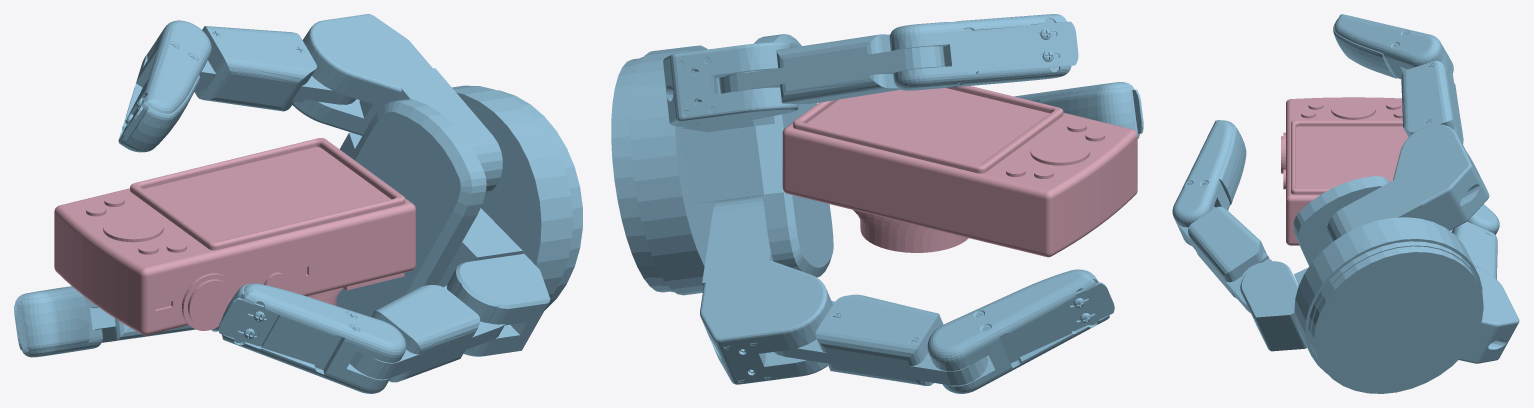
3 renders of one model, left to right at view 1: azimuth 30°, elevation 25°; view 2: azimuth 150°, elevation 25°; view 3: azimuth 270°, elevation 25°, orthographic. The views are drawn at different scales.
Parts seen in each view (by area): view 1: world, camera.stl; view 2: world, camera.stl; view 3: world, camera.stl.
Boxes of the visible parts, x1,y1,x2,y2 form: world: (14,14,582,393); camera.stl: (54,138,415,335); world: (611,14,1143,393); camera.stl: (782,86,1137,257); world: (1172,14,1519,393); camera.stl: (1281,97,1408,245).
Bounding box in the file's own units: 0.2108 × 0.1438 × 0.1659.
